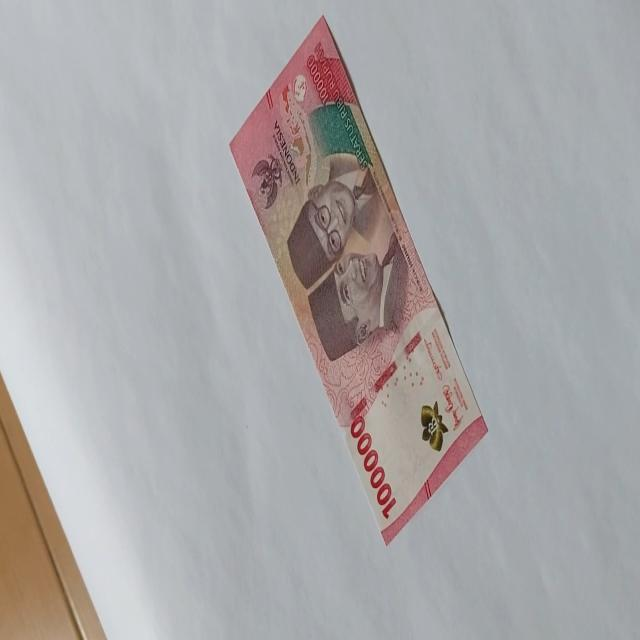seratus ribu rupiah: (228, 13, 488, 546), (332, 230, 409, 347)
